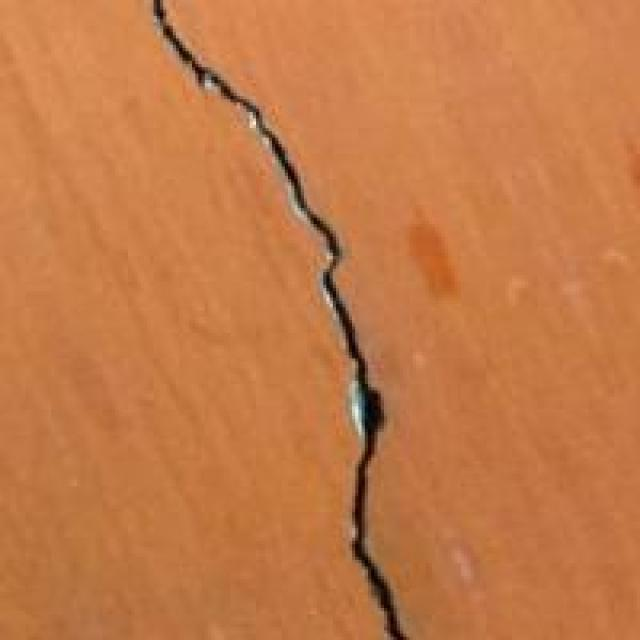crack: (154, 0, 467, 637)
